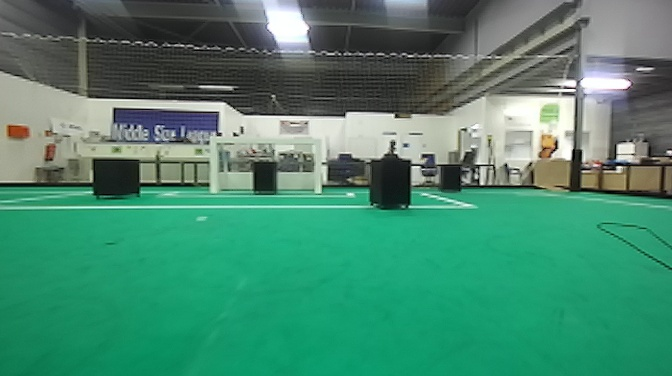goalpost: (207, 137, 221, 195), (313, 142, 322, 195)
